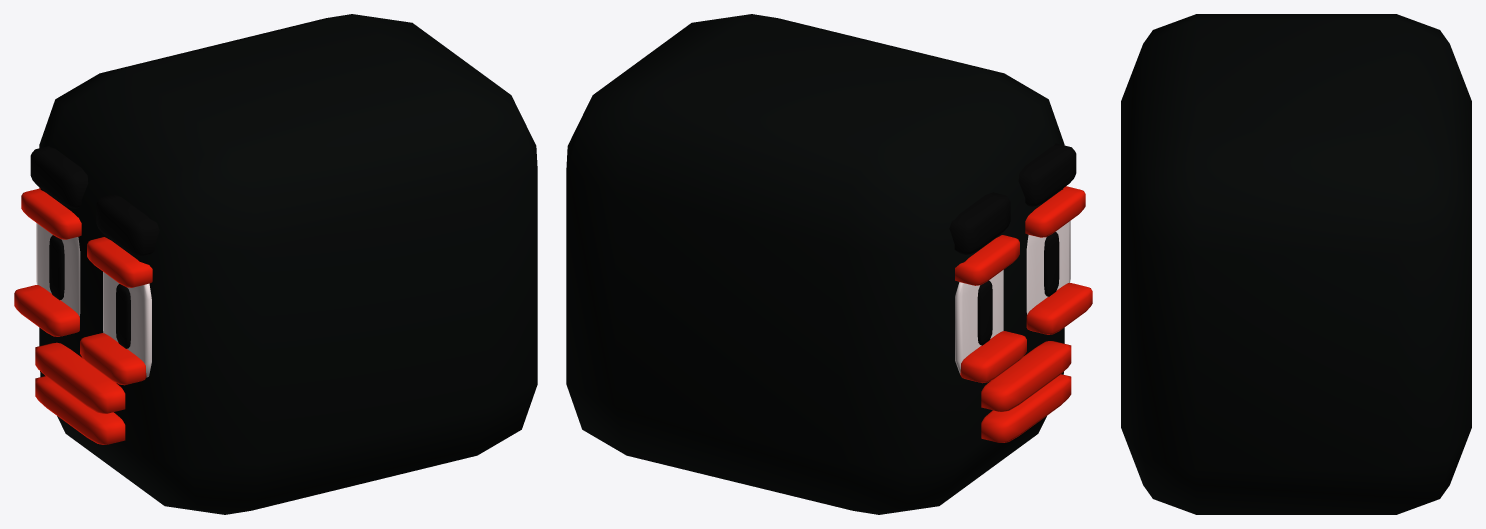
The model's file is robot.glb.
3 views of the same model, side by side, from view 1: azimuth 30°, elevation 25°; view 2: azimuth 150°, elevation 25°; view 3: azimuth 270°, elevation 25° (orthographic).
Visible parts, largest first — view 1: Cube; view 2: Cube; view 3: Cube.
Boxes of the visible parts, <box> form: Cube: <box>14,14,537,514</box>; Cube: <box>566,14,1092,514</box>; Cube: <box>1121,14,1471,514</box>.
Bounding box in the file's own units: 2.13 × 1.8 × 1.52.
